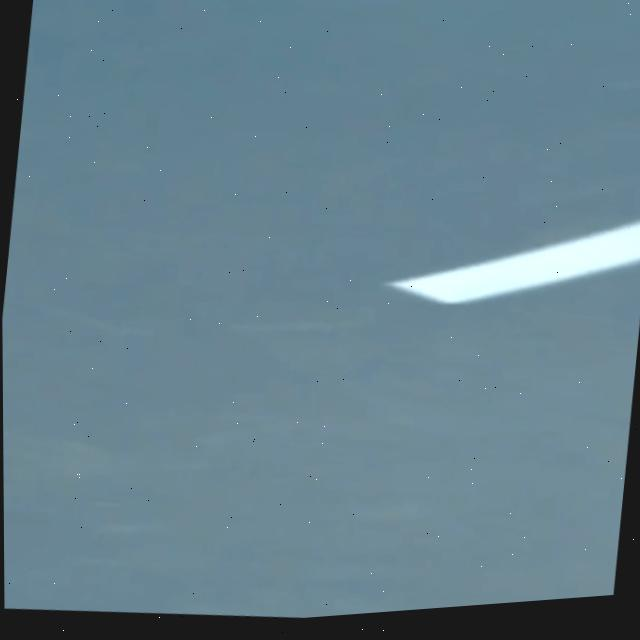center: (384, 219, 640, 302)
